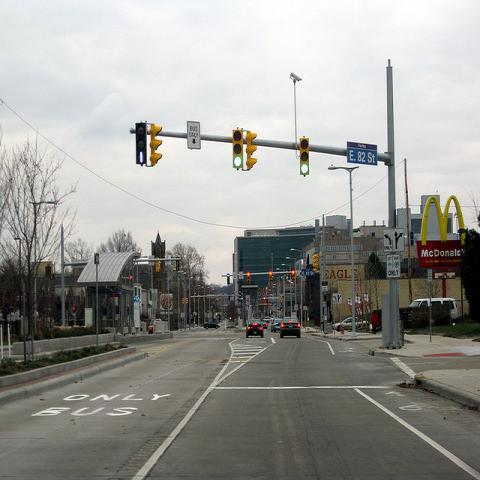car: (409, 297, 458, 319), (280, 317, 301, 338), (335, 317, 362, 331), (246, 322, 263, 338), (148, 319, 162, 334), (270, 318, 282, 332), (203, 322, 222, 330), (262, 322, 268, 329), (264, 316, 270, 323)
